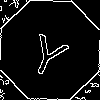Y: (25, 25, 74, 80)
